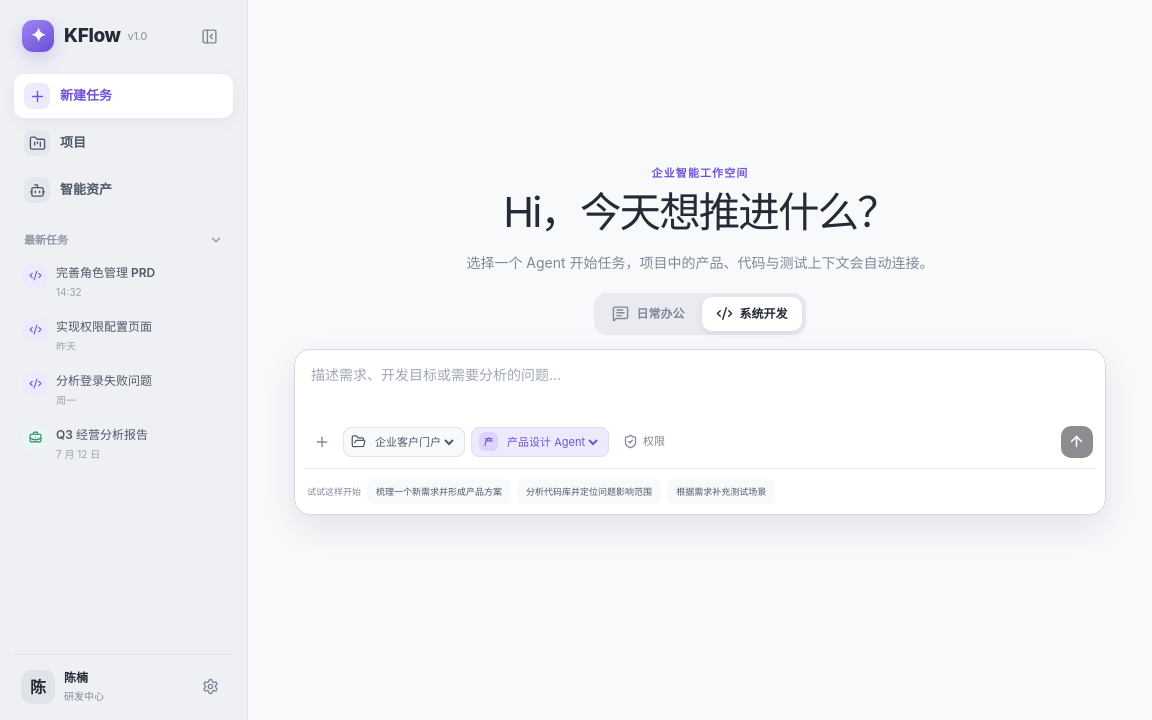
enterprise AI client demo › opens a Codex-inspired personal Agent settings page
The image size is (1152, 720).
Step 1. Click the button with aria-label "打开陈楠个人页面" → [103, 686], box [21, 669, 185, 704]
(page scrolled)
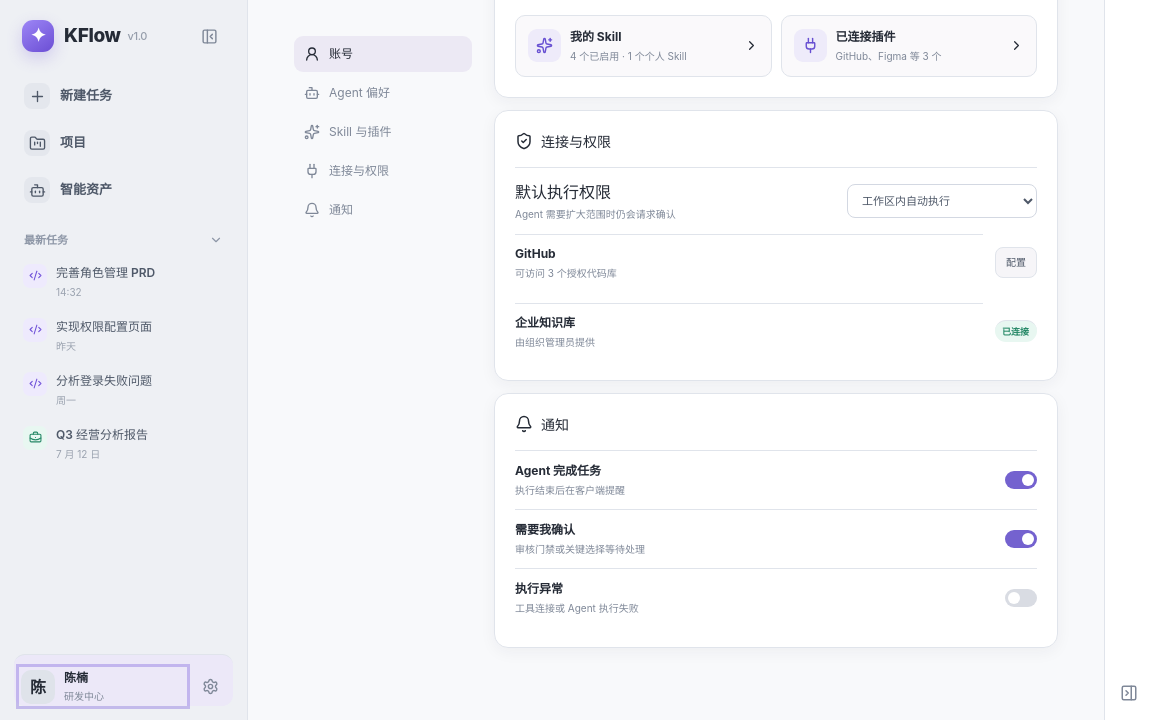
Now the heading "连接与权限" is shown, box [541, 130, 611, 152]
Now the heading "通知" is shown, box [541, 414, 569, 434]
